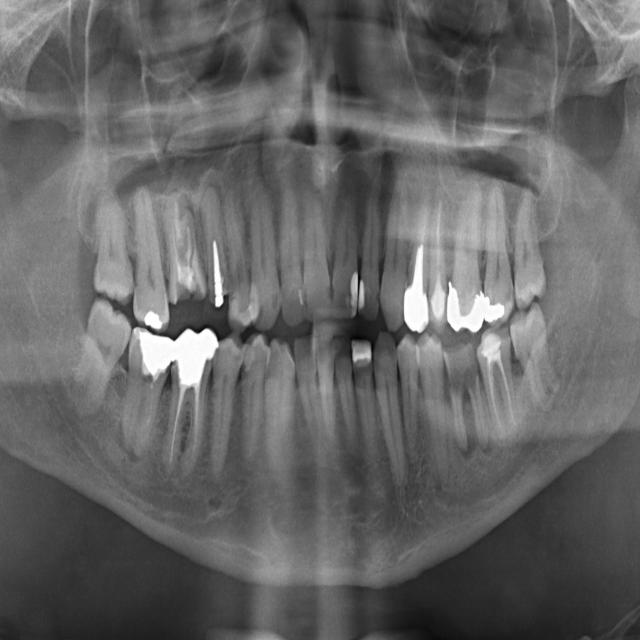AmalgamRestoration: (173, 326, 223, 384), (133, 329, 176, 376), (448, 292, 484, 331), (140, 302, 163, 335), (483, 301, 509, 321)
CompositeResinRestoration: (350, 339, 376, 366), (244, 335, 258, 369), (349, 268, 358, 318), (359, 272, 370, 312)
Crown: (404, 281, 432, 334), (432, 288, 447, 321)
DentalCaries: (446, 358, 483, 402), (168, 273, 202, 315), (161, 362, 181, 388), (226, 281, 241, 311), (234, 338, 247, 372), (504, 268, 517, 302), (326, 272, 338, 306), (240, 366, 254, 395), (253, 297, 265, 322), (302, 288, 313, 315), (272, 284, 281, 314), (216, 340, 224, 370), (374, 282, 382, 310)
Overhang: (444, 272, 456, 292)
RootCanalTreatment: (167, 384, 204, 478), (485, 356, 517, 439), (167, 216, 201, 274), (208, 209, 225, 312), (431, 194, 447, 284), (414, 202, 428, 284)
periapicalLesion: (453, 419, 498, 474), (113, 413, 138, 464), (168, 186, 194, 224), (200, 166, 224, 207)
